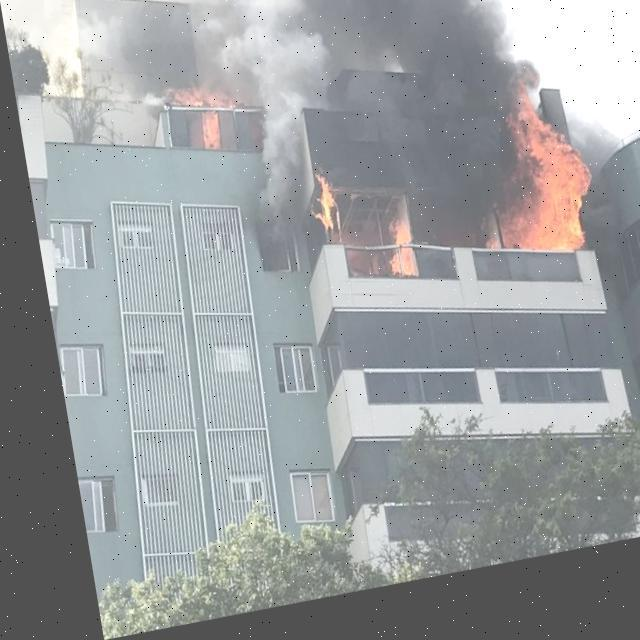Fire: (474, 120, 598, 276), (170, 97, 228, 158), (296, 186, 330, 243), (372, 233, 401, 285)
